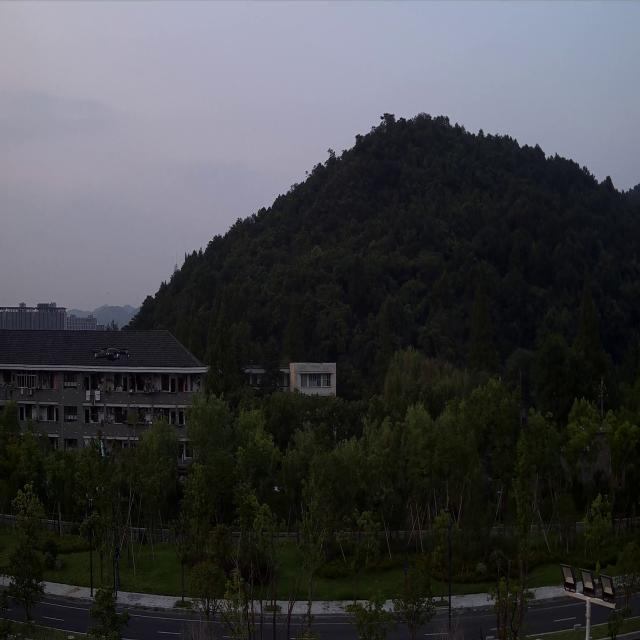UAV: (93, 346, 129, 360)
